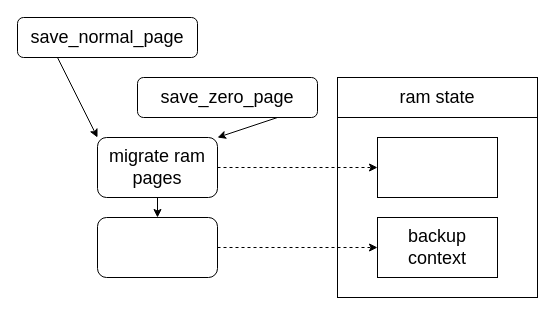
This 555x315 diagram has some shape labels left out. Each missing label, with the box of its shape:
backup ram pages: (96, 216, 218, 278)
migration context: (376, 136, 498, 198)
